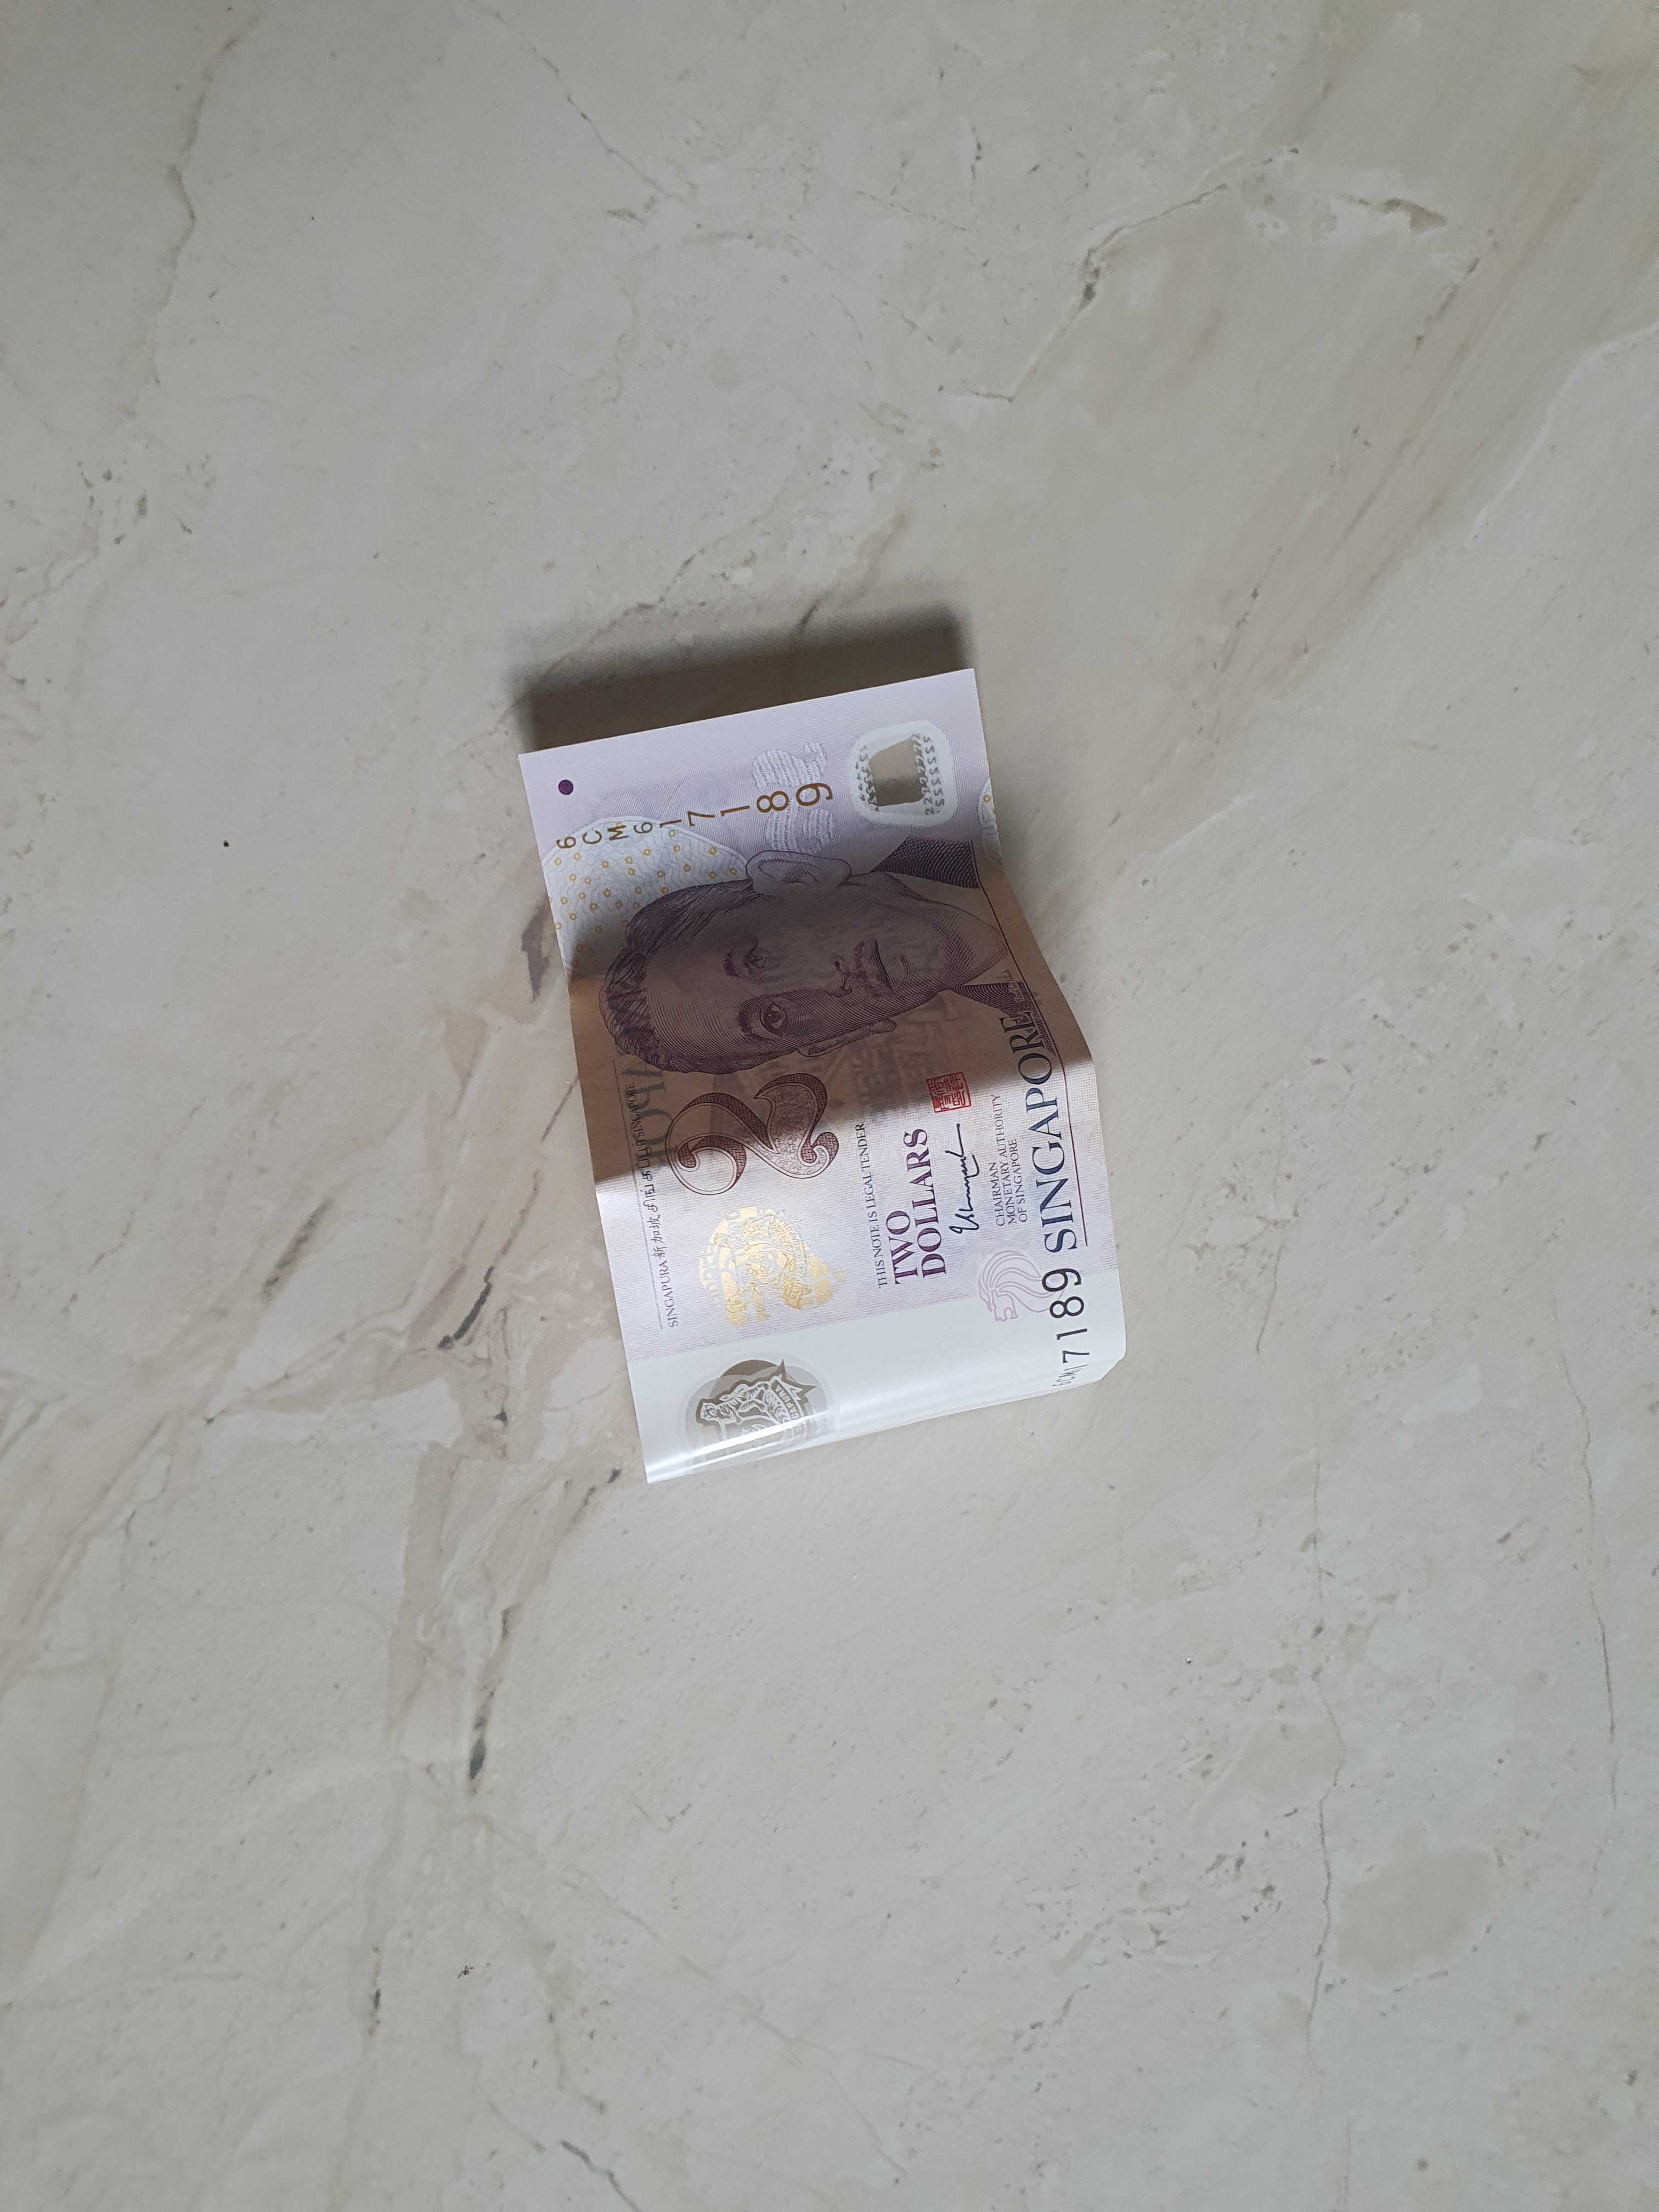$2: (514, 669, 1127, 1487)
